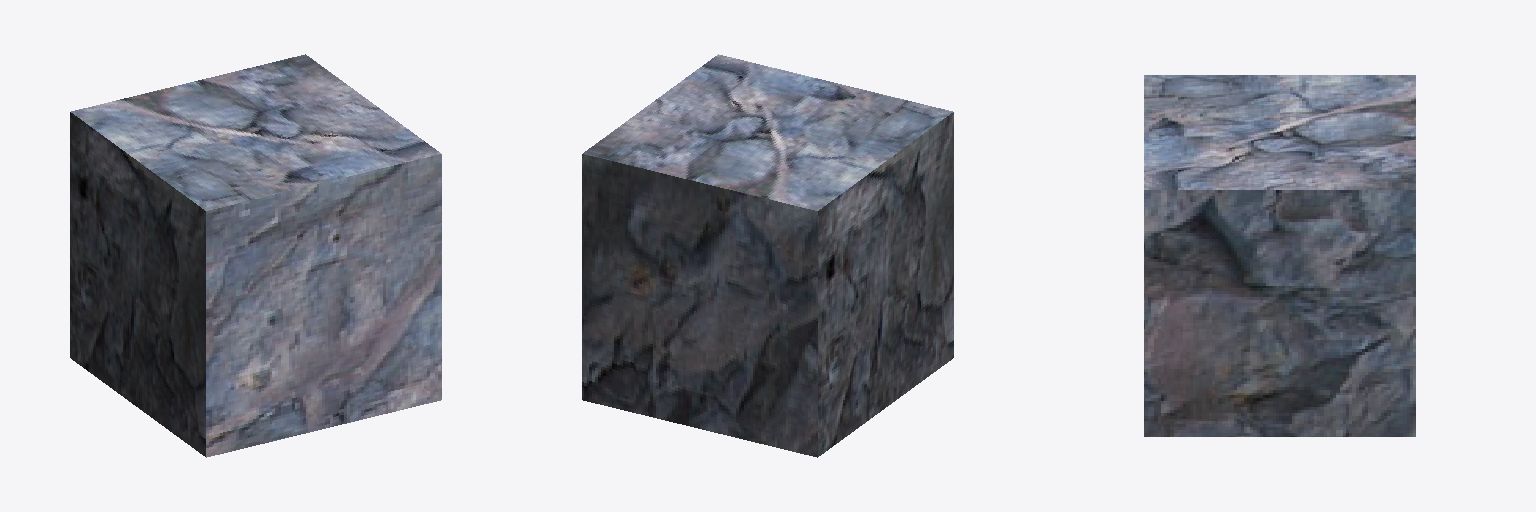
3 views of the same model, side by side, from view 1: azimuth 30°, elevation 25°; view 2: azimuth 150°, elevation 25°; view 3: azimuth 270°, elevation 25° (orthographic).
Visible parts, largest first — view 1: Cube; view 2: Cube; view 3: Cube.
Part boxes in pixels (x1,y1,x2,y2): Cube: (70,54,441,457); Cube: (582,54,953,457); Cube: (1144,75,1415,436).
Bounding box in the file's own units: 2 × 2 × 2.
1 materials, 1 textured.